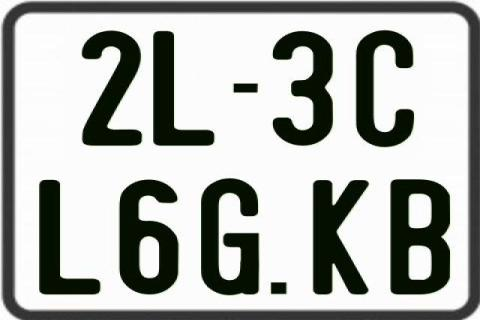0: (79, 30, 143, 146), (118, 180, 180, 295), (273, 31, 333, 145)
B: (388, 180, 449, 296)
C: (353, 28, 411, 145)
G: (201, 178, 261, 296)
K: (314, 178, 374, 292)
L: (152, 29, 218, 149), (37, 178, 102, 292)
